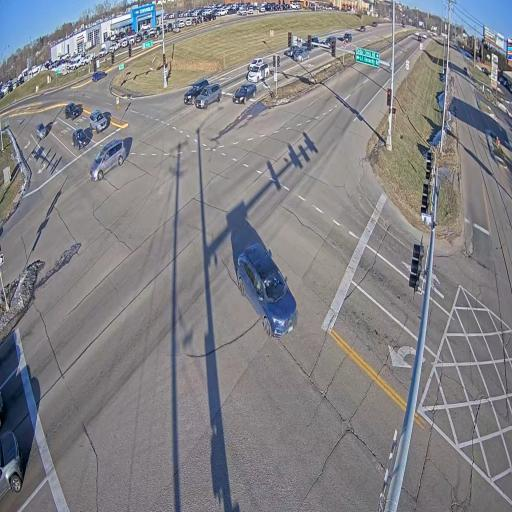pickup: (0, 431, 23, 498)
sedan: (235, 242, 297, 337), (232, 83, 257, 104), (247, 57, 265, 71), (284, 46, 300, 56), (37, 123, 47, 139), (92, 71, 106, 82), (481, 67, 490, 75), (359, 26, 365, 32), (372, 21, 377, 26)
suv: (195, 83, 221, 109), (184, 79, 208, 104), (89, 110, 109, 133), (73, 128, 90, 149), (65, 102, 82, 119), (293, 46, 309, 61), (323, 36, 336, 46), (312, 37, 319, 42), (422, 34, 427, 38), (418, 37, 421, 40)
van: (90, 139, 126, 180), (247, 63, 270, 83), (343, 33, 352, 41)
